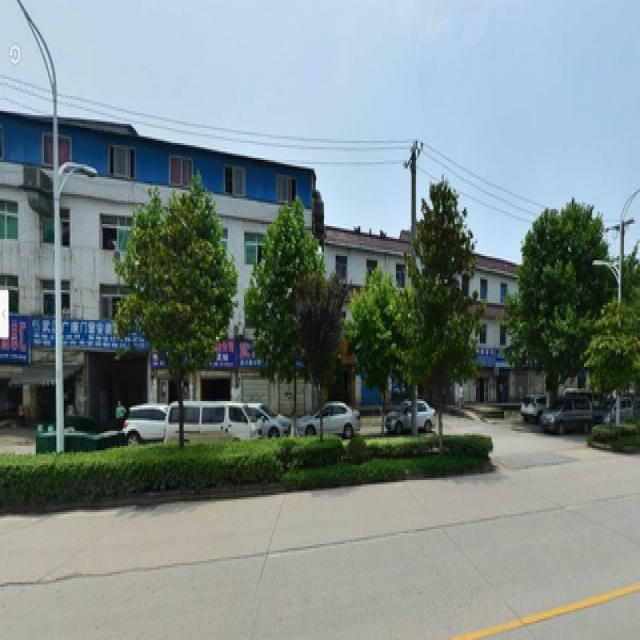meta: (132, 186, 228, 437)
